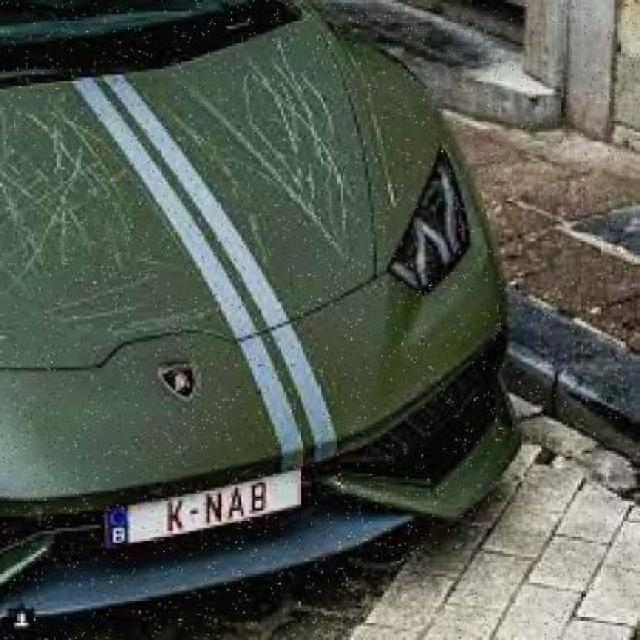bonnet-dent: (0, 37, 487, 379)
